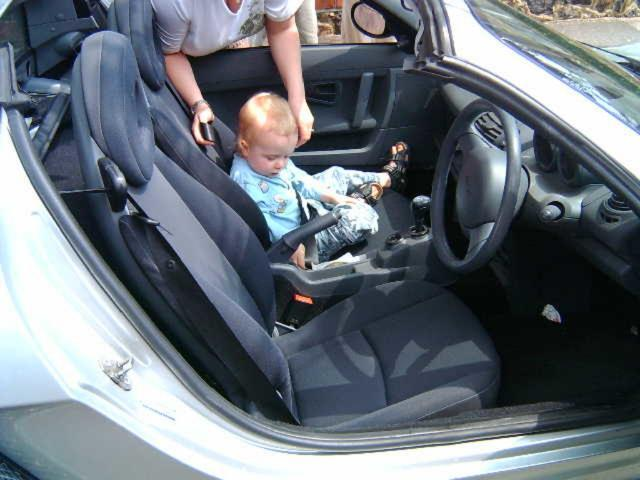Seatbelt: (55, 188, 302, 423), (202, 111, 322, 270)
